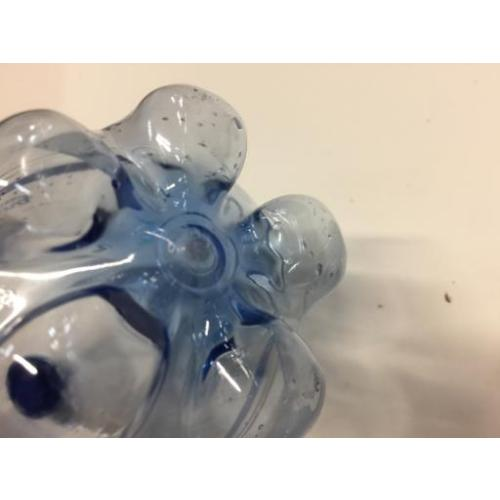plastic: (0, 83, 349, 437)
